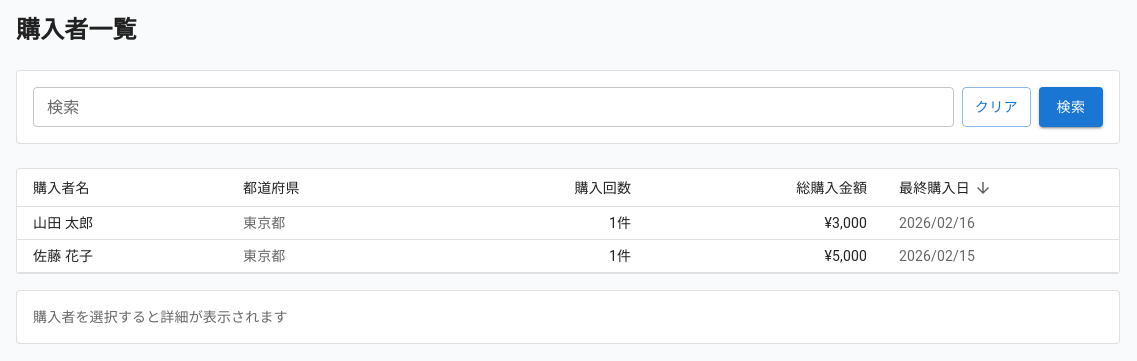
BuyersPage (UC-007) › 検索で購入者名・商品名をフィルタリングできる
expect the text "山田 太郎" is shown: met, box [33, 215, 93, 231]
expect the text "佐藤 花子" is shown: met, box [33, 248, 93, 264]
//  購入者名で検索
In the field labelled "検索": (493, 107) [33, 87, 954, 127], type "山田"
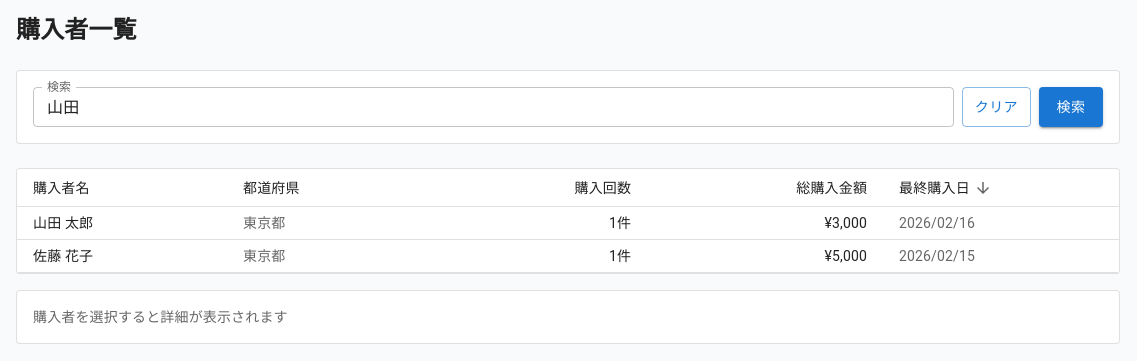
Click the button "検索": click(1071, 107) [1039, 87, 1103, 127]
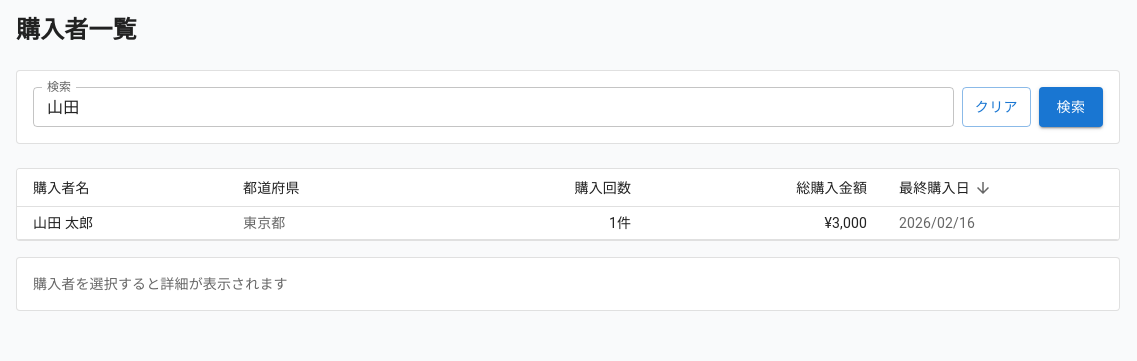
expect the text "山田 太郎" is shown: met, box [33, 215, 93, 231]
expect the text "佐藤 花子" is gone: met
Replace the text in the field labelled "検索" with "リング": (493, 107) [33, 87, 954, 127]
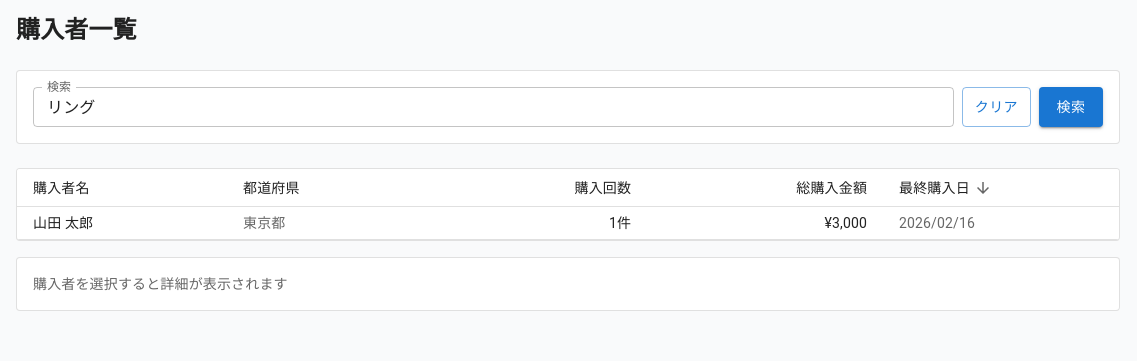
Click the button "検索": click(1071, 107) [1039, 87, 1103, 127]
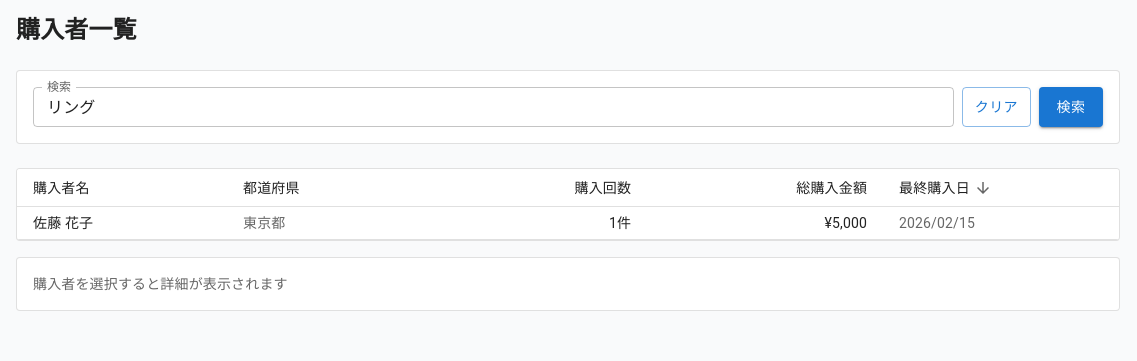
expect the text "山田 太郎" is gone: met
expect the text "佐藤 花子" is shown: met, box [33, 215, 93, 231]
